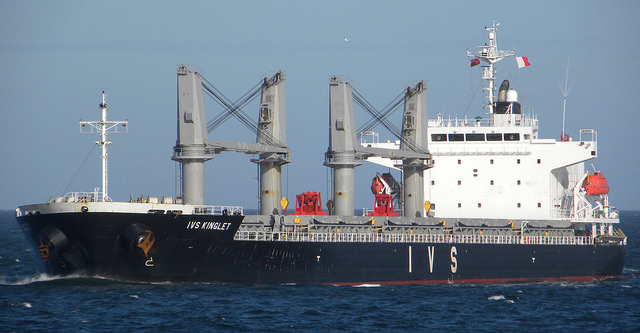bulk carrier: (19, 19, 626, 285)
